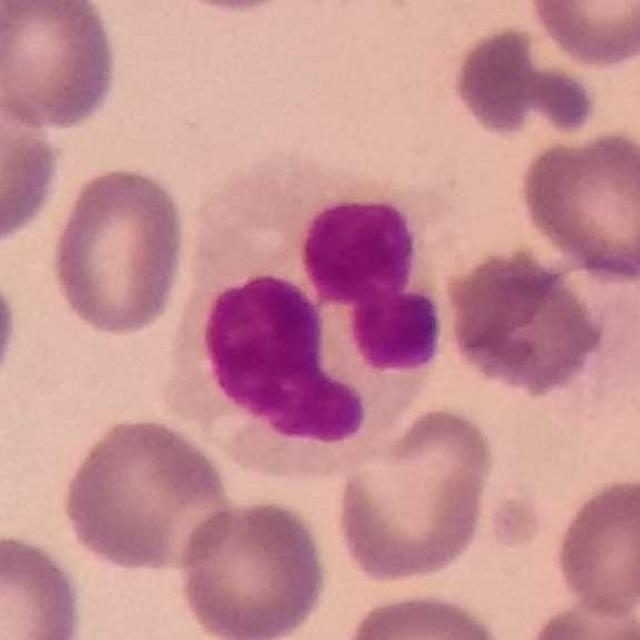Monocyte: (170, 140, 464, 483)
Platelets: (472, 484, 546, 556)
RBC: (330, 402, 498, 589), (56, 412, 236, 574), (440, 242, 608, 401), (46, 162, 192, 340), (174, 494, 332, 640), (514, 123, 640, 284), (448, 20, 598, 144), (0, 0, 121, 132), (551, 472, 640, 620), (0, 85, 63, 250), (0, 528, 88, 640), (337, 586, 511, 640), (523, 1, 640, 70), (518, 590, 640, 640), (0, 257, 21, 405), (152, 0, 318, 16)
